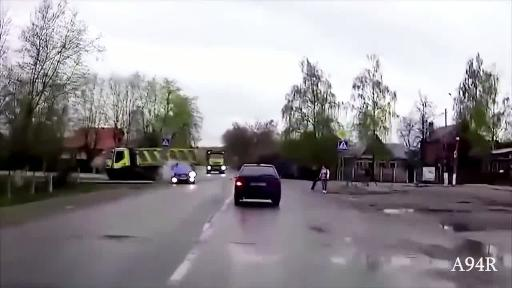Accident-fire-smoke: (46, 94, 229, 201)
